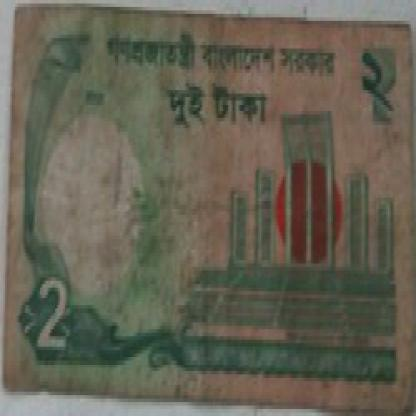two taka: (25, 270, 75, 361), (353, 45, 396, 146)
